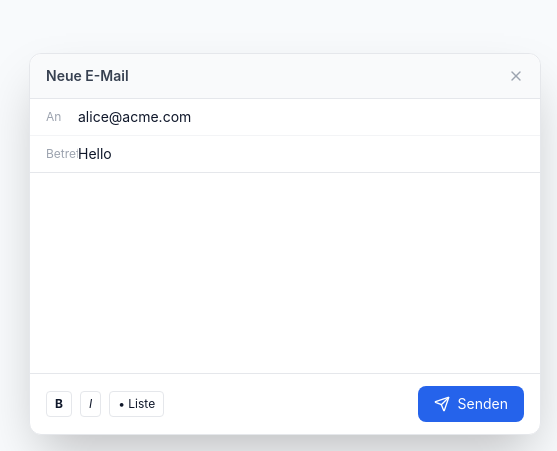
Test: ComposeModal › shows error message when send fails
Click the button "Senden" at (471, 404), box x1=418 y1=386 x2=524 y2=422
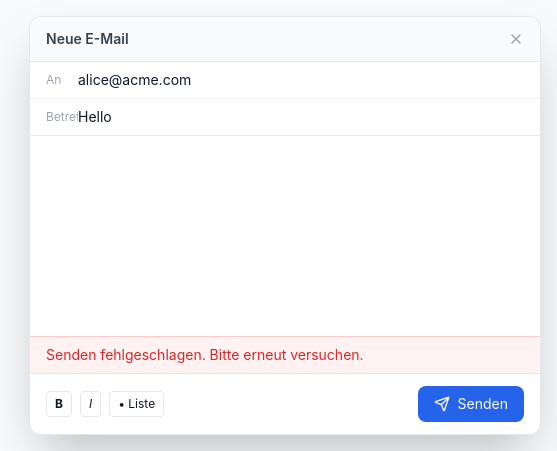
Check: the text "Senden fehlgeschlagen. Bitte erneut versuchen." is shown, box x1=30 y1=336 x2=540 y2=373
